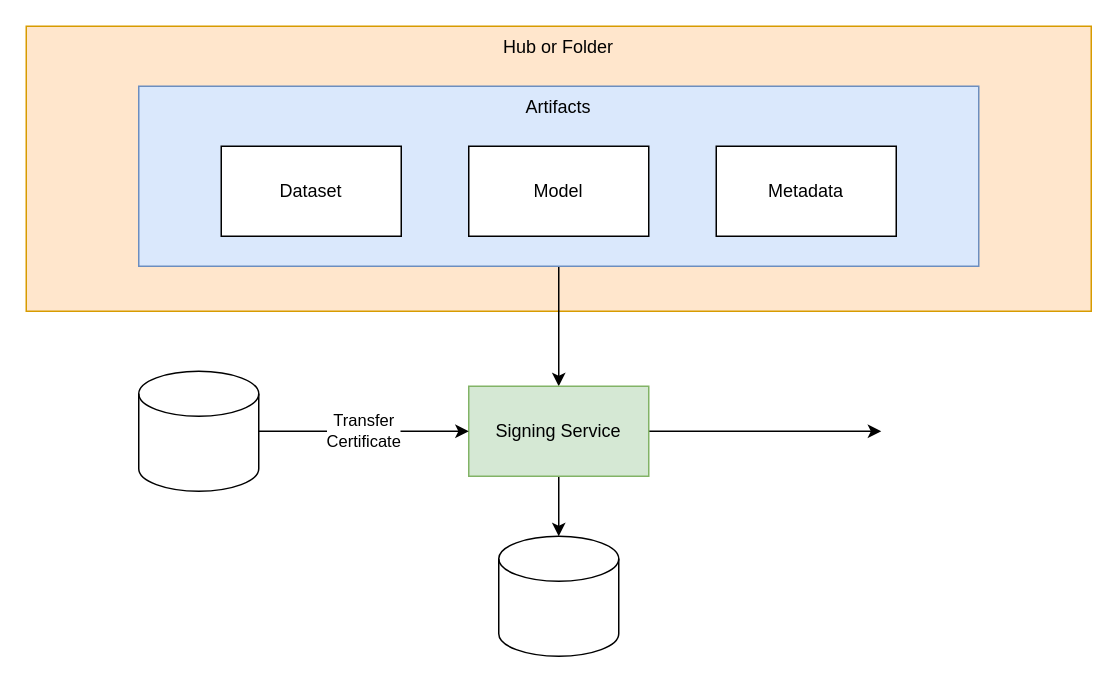
This 1118x683 diagram has some shape labels left out. The shapes that lost their labels are listed below. From the top down, each one's centre as x and y in pixels, then its label:
At point 198,430: "Secure Cert Store".
At point 558,595: "Output".
